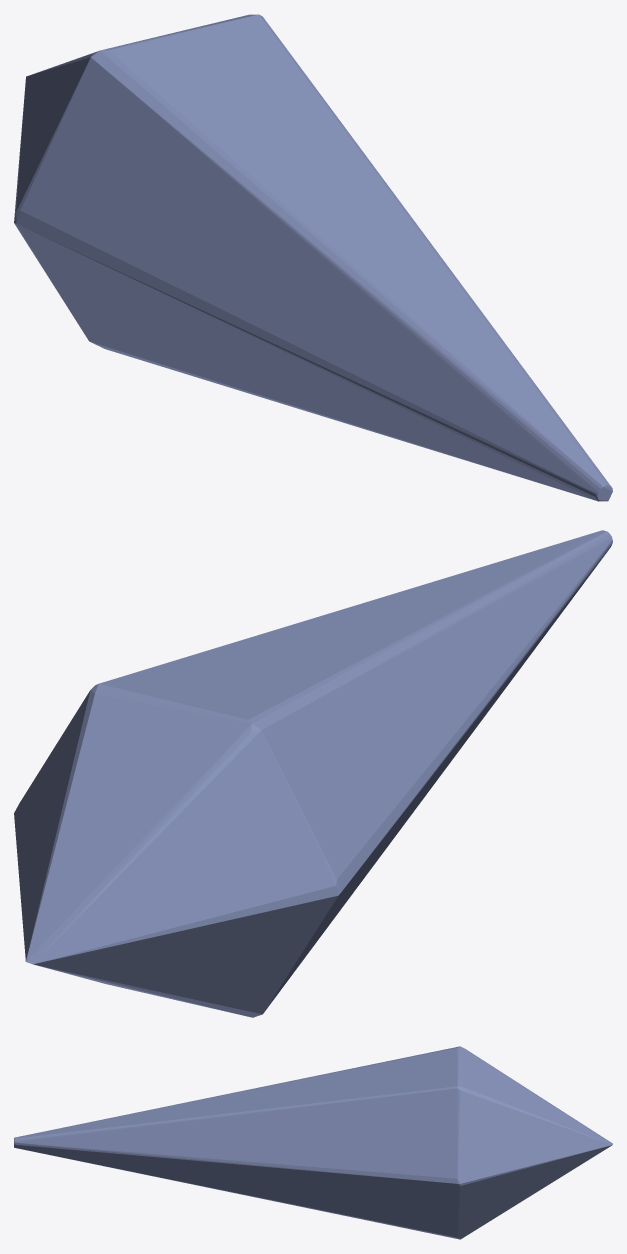
The model's file is IV_pole_a01.glb.
The picture shows the model from 3 angles, top to bottom: view 1: azimuth 30°, elevation 25°; view 2: azimuth 150°, elevation 25°; view 3: azimuth 270°, elevation 25°; orthographic projection. The views are drawn at different scales.
Parts seen in each view (by area): view 1: geometry_0; view 2: geometry_0; view 3: geometry_0.
Boxes of the visible parts, box(x1,y1,x2,y2) form: geometry_0: box(14, 14, 612, 501); geometry_0: box(14, 530, 612, 1017); geometry_0: box(14, 1046, 612, 1239).
Bounding box in the file's own units: 0.1563 × 0.1367 × 0.48.
